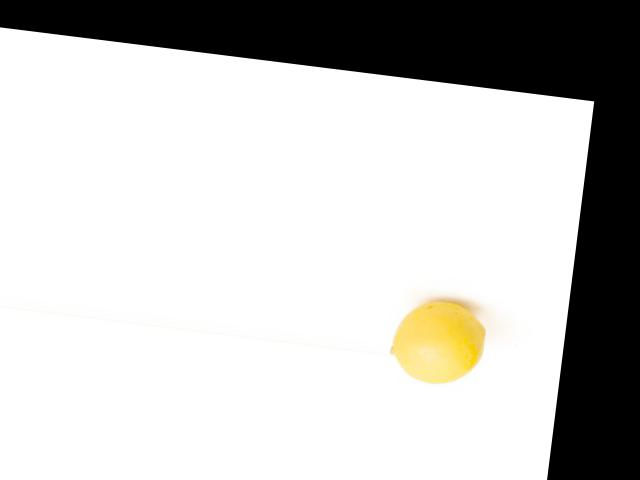lemon: (385, 289, 500, 394)
